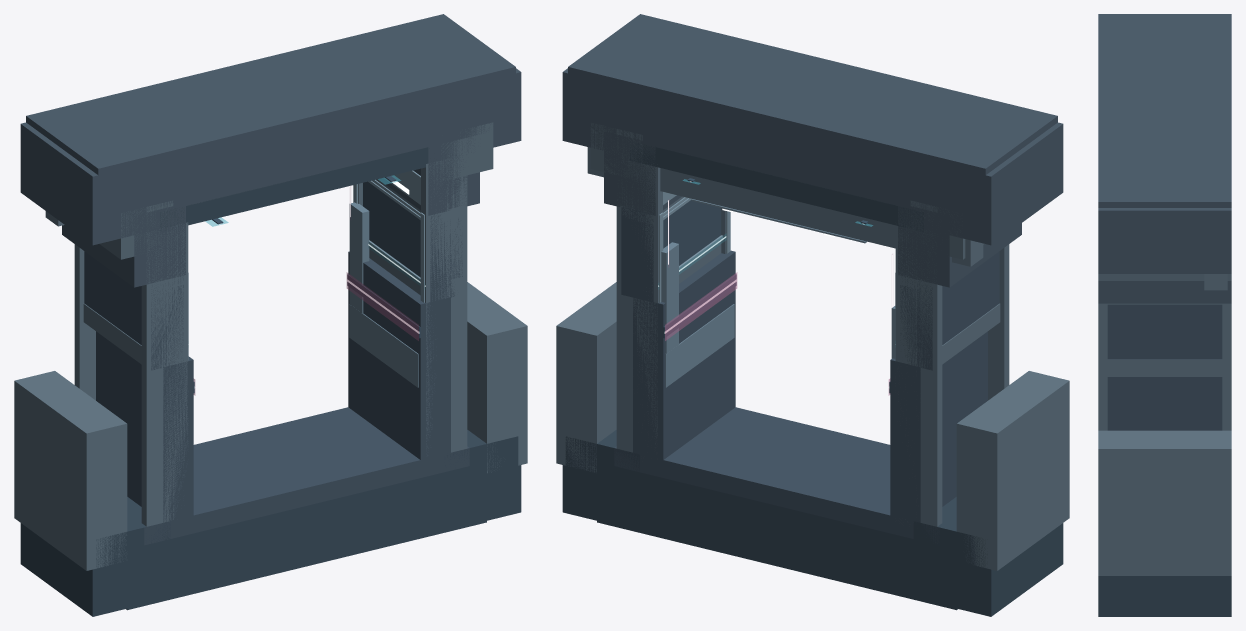
File: continuum-neon-bays-v5.gltf
3 views of the same model, side by side, from view 1: azimuth 30°, elevation 25°; view 2: azimuth 150°, elevation 25°; view 3: azimuth 270°, elevation 25° (orthographic). The views are drawn at different scales.
Visible parts, largest first — view 1: PANORAMA_START_SHELL, SERVICE_SHELL, PANORAMA_START_INLAY, PANORAMA_END_SHELL, GATE_INLAY, PANORAMA_START_HALO; view 2: PANORAMA_START_SHELL, PANORAMA_END_SHELL, SERVICE_SHELL, GATE_SHELL, PANORAMA_START_INLAY, GATE_INLAY, PANORAMA_START_HALO; view 3: PANORAMA_START_SHELL, SERVICE_SHELL, PANORAMA_END_SHELL, GATE_SHELL.
Boxes of the visible parts, bbox=[...] form: PANORAMA_START_SHELL: bbox=[14, 14, 527, 616]; SERVICE_SHELL: bbox=[84, 181, 462, 370]; PANORAMA_START_INLAY: bbox=[188, 170, 424, 393]; PANORAMA_END_SHELL: bbox=[74, 183, 362, 400]; GATE_INLAY: bbox=[349, 202, 369, 313]; PANORAMA_START_HALO: bbox=[194, 176, 419, 394]; PANORAMA_START_SHELL: bbox=[556, 14, 1069, 616]; PANORAMA_END_SHELL: bbox=[616, 155, 942, 526]; SERVICE_SHELL: bbox=[621, 200, 999, 370]; GATE_SHELL: bbox=[587, 147, 983, 266]; PANORAMA_START_INLAY: bbox=[663, 178, 890, 393]; GATE_INLAY: bbox=[661, 199, 895, 358]; PANORAMA_START_HALO: bbox=[665, 179, 889, 394]; PANORAMA_START_SHELL: bbox=[1098, 14, 1231, 616]; SERVICE_SHELL: bbox=[1107, 304, 1222, 359]; PANORAMA_END_SHELL: bbox=[1222, 303, 1231, 430]; GATE_SHELL: bbox=[1204, 274, 1227, 290].
Bounding box in the file's own units: 56.4 × 54.8 × 16.
